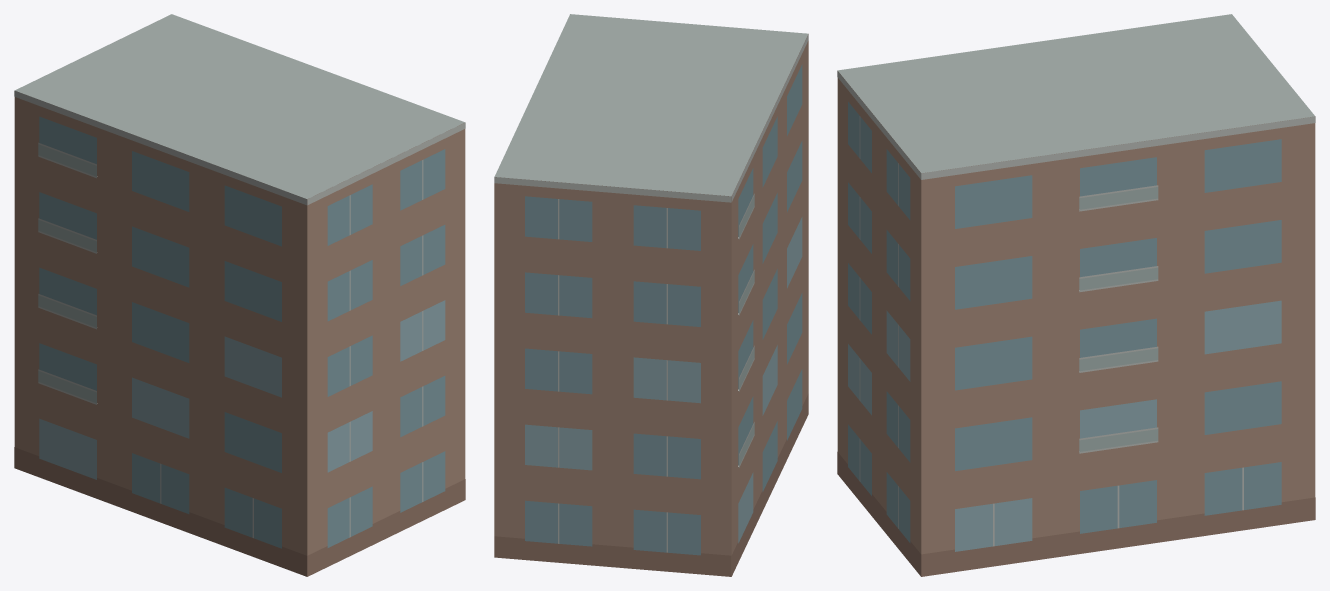
File: survey-upis-32568622.glb
The picture shows the model from 3 angles, left to right: view 1: azimuth 30°, elevation 25°; view 2: azimuth 150°, elevation 25°; view 3: azimuth 270°, elevation 25°; orthographic projection. The views are drawn at different scales.
Visible parts, largest first — view 1: survey-upis-32568622.tmp; view 2: survey-upis-32568622.tmp; view 3: survey-upis-32568622.tmp.
Part boxes in pixels (x1,y1,x2,y2): survey-upis-32568622.tmp: (14,14,465,576); survey-upis-32568622.tmp: (494,14,808,576); survey-upis-32568622.tmp: (837,14,1315,576).
Size of the model in its own units: 12.45 by 14.7 by 15.79.
